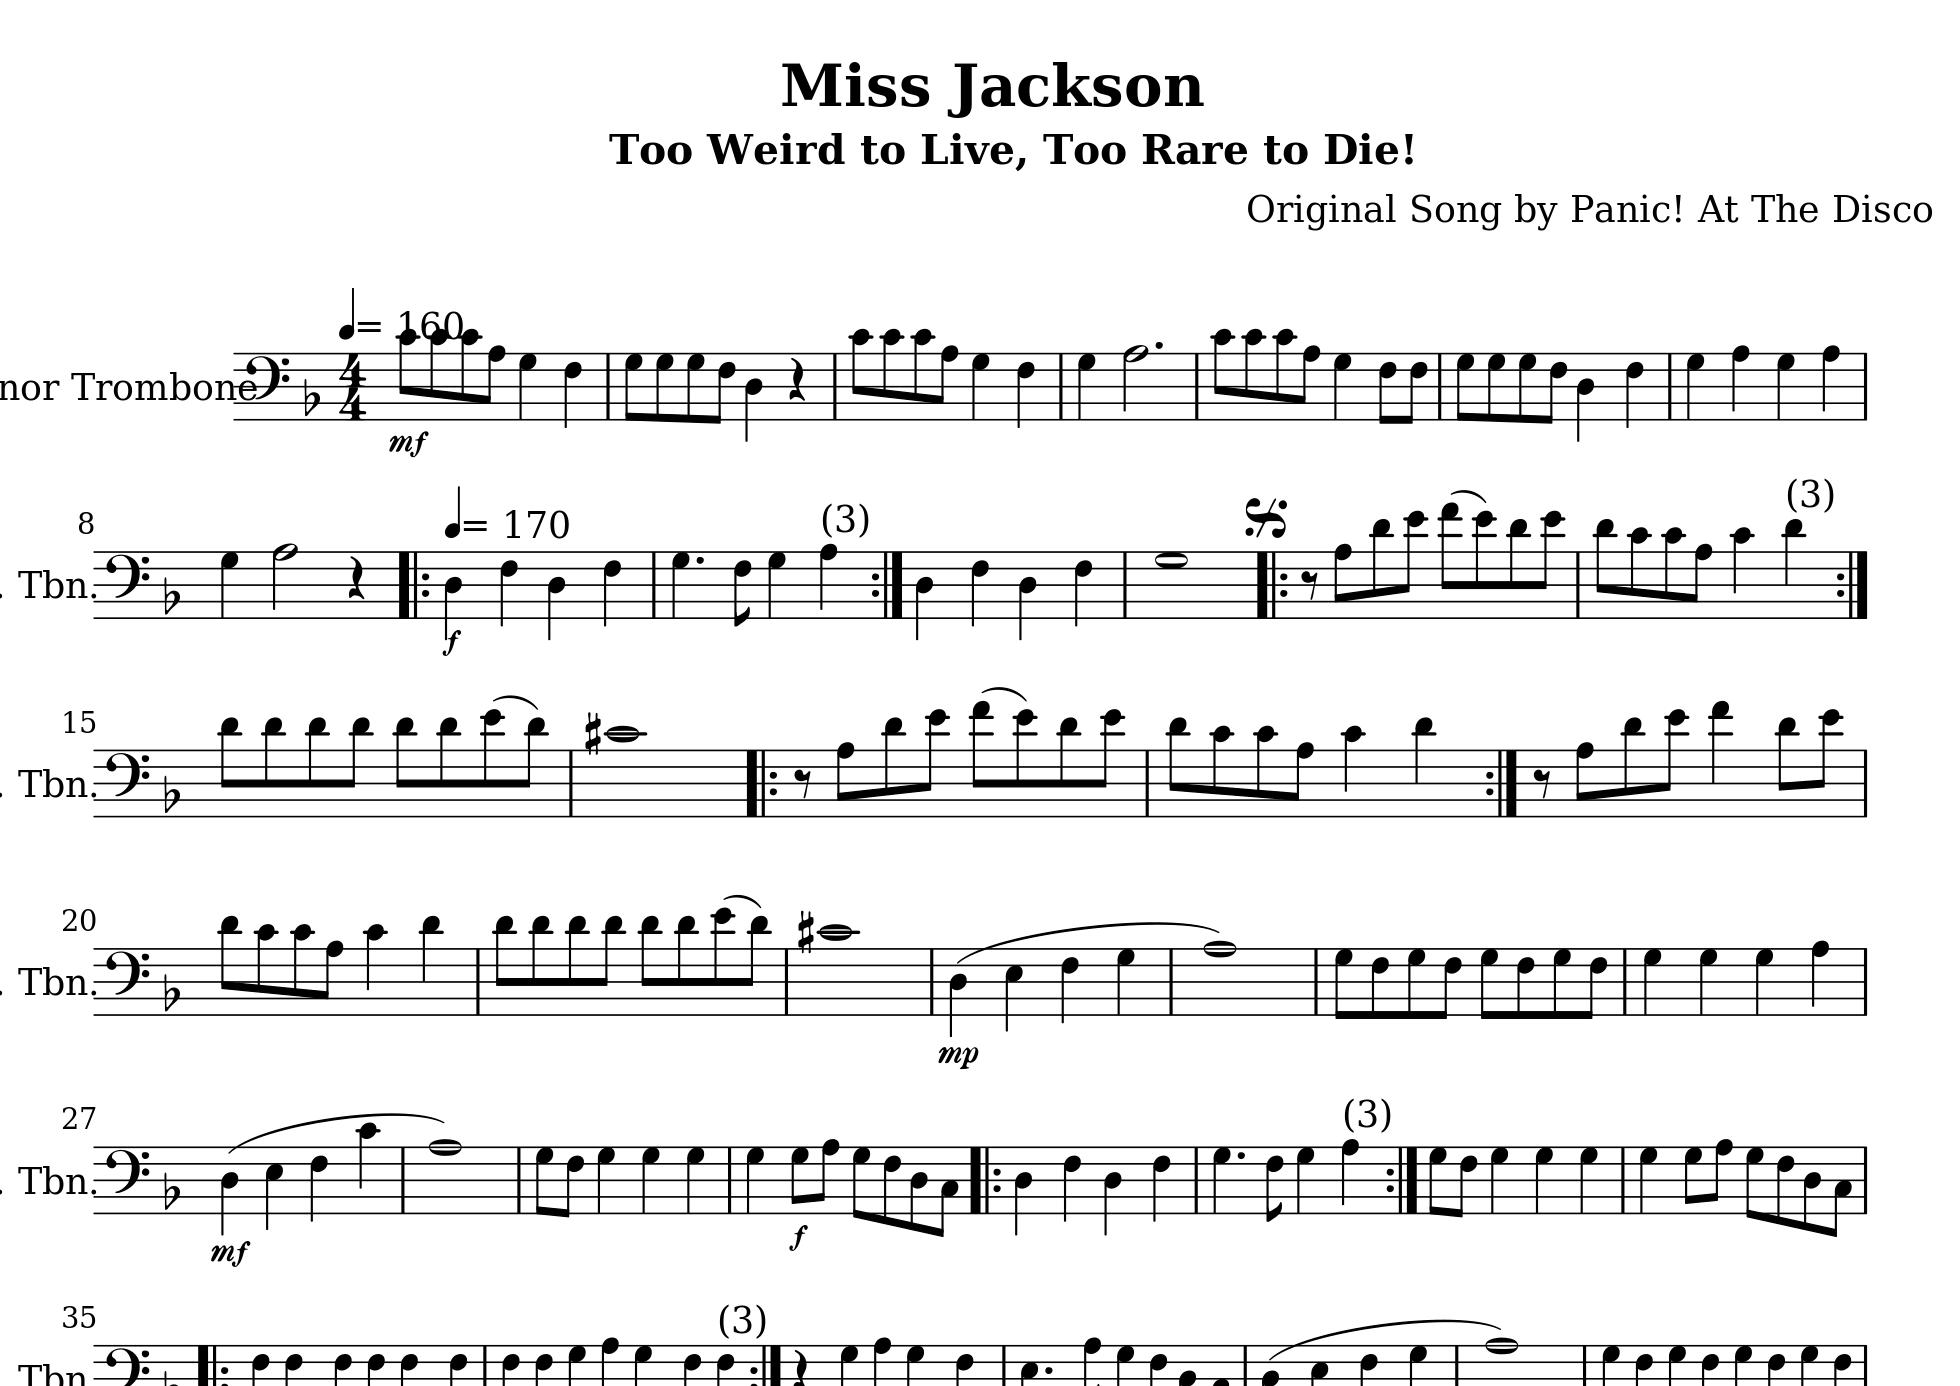0: (547, 507, 571, 540), (442, 307, 463, 337), (79, 904, 96, 931)
1: (504, 507, 522, 541), (397, 306, 415, 334), (61, 708, 76, 733)
1_10: (817, 922, 856, 1018), (604, 724, 642, 819)
1_8: (1201, 937, 1237, 1018), (427, 1135, 462, 1216)
2: (58, 1105, 79, 1131), (60, 906, 79, 933)
2_8: (1122, 342, 1149, 423), (271, 540, 298, 619)
3: (60, 1303, 78, 1327)
4: (337, 385, 369, 420), (337, 351, 367, 387)
4_10: (355, 1120, 382, 1216), (1341, 723, 1366, 819), (363, 921, 388, 1017), (1731, 525, 1755, 619)
4_11: (1411, 715, 1437, 819), (418, 913, 444, 1017), (1782, 517, 1806, 619)
4_13: (1708, 697, 1734, 819)
4_4: (946, 946, 970, 1036), (1017, 549, 1039, 642), (546, 550, 568, 642), (1102, 1144, 1125, 1236), (219, 1144, 241, 1234), (913, 549, 934, 642), (1014, 1144, 1035, 1237), (742, 351, 763, 442), (1575, 351, 1596, 442), (442, 549, 463, 637)
4_5: (264, 1144, 285, 1231), (1005, 946, 1026, 1032)
4_6: (562, 349, 585, 430), (1015, 349, 1038, 430), (1624, 349, 1647, 429), (498, 549, 520, 628), (307, 1144, 330, 1222), (1152, 1144, 1174, 1222), (970, 547, 991, 630), (601, 547, 622, 628), (1074, 547, 1095, 628), (1062, 1144, 1083, 1224), (1060, 946, 1081, 1024)
4_7: (1641, 946, 1665, 1015), (970, 351, 993, 421), (1075, 351, 1098, 421), (1684, 351, 1707, 421), (217, 549, 240, 619), (766, 549, 789, 619), (1753, 946, 1776, 1017), (1212, 1144, 1234, 1215), (1296, 1144, 1318, 1215), (1489, 1144, 1512, 1215), (1534, 1144, 1557, 1215), (1578, 1144, 1600, 1215), (1638, 1144, 1660, 1215), (517, 351, 538, 421), (1332, 351, 1353, 421), (1776, 351, 1797, 421), (1116, 946, 1137, 1017), (1698, 946, 1719, 1017), (595, 1144, 616, 1215), (640, 1144, 661, 1215), (685, 1144, 706, 1215), (745, 1144, 766, 1215), (670, 550, 691, 619)
4_8: (1809, 937, 1831, 1017), (1339, 1135, 1362, 1215), (817, 541, 840, 619), (1731, 343, 1752, 421), (1821, 343, 1842, 421)
5: (79, 706, 96, 735), (79, 1302, 96, 1329)
6: (418, 307, 442, 336)
7: (526, 507, 547, 540), (79, 1102, 96, 1129)
8: (76, 508, 94, 535)
8_10: (1209, 723, 1236, 817), (847, 328, 874, 421), (1212, 327, 1237, 421), (1627, 525, 1653, 619), (394, 328, 420, 421), (1242, 328, 1267, 421), (253, 922, 279, 1015), (457, 327, 481, 421), (1254, 723, 1278, 817), (880, 328, 904, 421), (910, 328, 934, 421), (1662, 525, 1686, 618), (1273, 328, 1297, 420), (291, 922, 313, 1015)
8_11: (516, 715, 549, 819), (739, 913, 772, 1015), (597, 912, 627, 1017), (343, 714, 373, 817), (1593, 516, 1620, 619), (391, 714, 418, 817), (1165, 714, 1192, 817), (261, 714, 286, 819), (1057, 715, 1083, 819), (217, 913, 243, 1017), (492, 913, 517, 1017), (637, 912, 663, 1015), (673, 913, 699, 1017), (1507, 517, 1533, 619), (304, 712, 328, 819), (1621, 712, 1645, 819), (217, 714, 241, 819), (882, 714, 906, 819), (1776, 712, 1800, 817), (1371, 516, 1395, 619), (436, 715, 460, 819), (529, 912, 553, 1015), (565, 912, 589, 1015)
8_12: (1093, 706, 1128, 819), (1812, 706, 1843, 819), (919, 706, 951, 817), (1536, 508, 1566, 619), (1659, 706, 1689, 817), (1399, 508, 1428, 619), (480, 706, 505, 819), (1473, 508, 1498, 619), (1014, 706, 1039, 817), (711, 906, 736, 1017)
8_13: (1438, 501, 1464, 619), (969, 699, 994, 817)
8_3: (933, 1144, 960, 1239), (1828, 1144, 1854, 1237)
8_4: (907, 1144, 928, 1231), (1801, 1144, 1821, 1231)
8_6: (1582, 946, 1611, 1020), (1404, 351, 1431, 424), (1437, 946, 1464, 1020), (730, 547, 754, 628), (1455, 1144, 1480, 1219), (1263, 1144, 1287, 1224), (561, 1144, 586, 1218), (712, 351, 736, 424), (1545, 351, 1569, 424), (880, 1144, 901, 1227), (1776, 1144, 1795, 1225), (1377, 351, 1398, 424), (1369, 946, 1390, 1020), (1515, 946, 1536, 1020)
8_7: (1155, 547, 1188, 619), (1333, 946, 1356, 1020), (1485, 351, 1507, 423), (1405, 946, 1428, 1018), (1551, 946, 1573, 1018), (850, 1144, 871, 1219), (1744, 1144, 1765, 1219), (789, 1144, 811, 1213), (685, 351, 706, 423), (1518, 351, 1539, 423), (1479, 946, 1500, 1018), (534, 1144, 555, 1216), (1428, 1144, 1449, 1216), (622, 351, 643, 421), (654, 351, 675, 421), (1455, 351, 1476, 421), (1683, 1144, 1704, 1213)
8_8: (934, 343, 961, 421), (1288, 739, 1315, 817), (319, 937, 345, 1017), (481, 343, 507, 421), (1297, 343, 1323, 421), (816, 1137, 841, 1215), (1710, 1137, 1735, 1215), (1689, 541, 1714, 618), (1573, 739, 1596, 819), (834, 739, 856, 817), (1332, 541, 1353, 619)
Fclef: (241, 349, 289, 421), (103, 547, 150, 619), (103, 747, 150, 819), (103, 945, 150, 1017), (103, 1144, 150, 1215)
Flat: (162, 574, 181, 616), (162, 772, 181, 814), (162, 972, 181, 1012), (301, 376, 319, 417), (162, 1170, 180, 1210)
LeftRepeatSign: (964, 1144, 1003, 1213), (394, 549, 432, 618), (742, 748, 780, 817), (1254, 549, 1290, 619)
Rests4: (345, 553, 366, 601), (787, 355, 807, 403)
Rests8: (1531, 766, 1554, 799), (1300, 568, 1321, 601), (792, 766, 813, 799)
RightRepeatSign: (868, 550, 906, 618), (1834, 549, 1870, 618), (1485, 748, 1521, 816), (1384, 1146, 1420, 1213)
Segno: (1240, 493, 1291, 538)
Sharp: (796, 907, 816, 957), (583, 709, 603, 757)
Single_barline: (1617, 948, 1636, 1015), (1188, 1146, 1207, 1213), (1857, 1144, 1875, 1215), (1857, 946, 1875, 1015), (469, 946, 487, 1015), (922, 946, 940, 1015), (1308, 946, 1326, 1015), (1857, 351, 1875, 418), (1053, 352, 1071, 420), (1116, 550, 1134, 618), (1162, 948, 1180, 1015), (1662, 352, 1680, 418), (721, 1147, 739, 1213), (1189, 349, 1206, 420), (600, 351, 616, 420), (1140, 748, 1156, 817), (1432, 351, 1449, 418), (1570, 550, 1587, 618), (1857, 748, 1873, 816), (394, 1146, 411, 1213), (1615, 1146, 1632, 1213), (826, 352, 843, 418), (646, 550, 663, 616), (562, 750, 579, 816), (778, 949, 795, 1015), (511, 1146, 526, 1213), (1860, 1344, 1872, 1384)
Slur: (982, 685, 1029, 703), (493, 693, 538, 711), (724, 892, 762, 909), (1452, 487, 1488, 504)
Speed4: (337, 285, 384, 340), (444, 481, 489, 537)
Tbn: (13, 760, 87, 805), (12, 1159, 88, 1201), (13, 958, 87, 1002), (13, 564, 87, 604)
TimeSig: (337, 349, 370, 420)
dot: (691, 552, 706, 565), (1152, 337, 1165, 351), (1234, 1147, 1248, 1161), (1042, 1363, 1056, 1374)
f: (439, 628, 463, 657), (787, 1222, 810, 1251)
mf: (210, 1237, 252, 1273), (387, 427, 430, 460)
mp: (934, 1042, 981, 1072)
